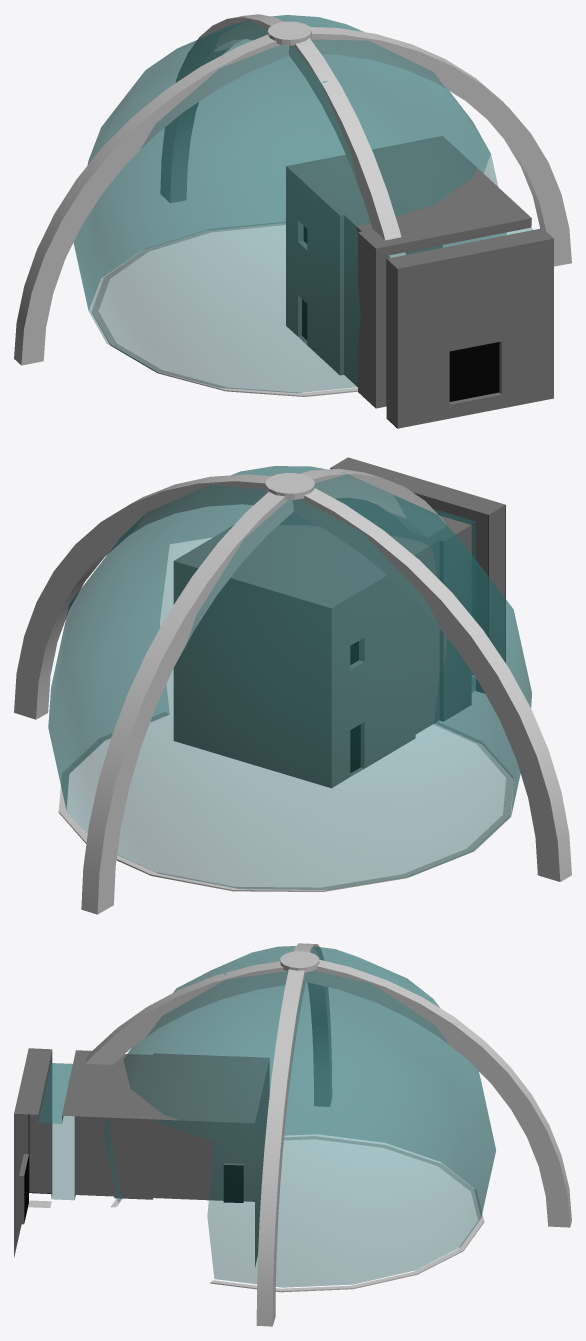
File: BuildingPhase2.obj
3 views of the same model, one above another, from view 1: azimuth 30°, elevation 25°; view 2: azimuth 150°, elevation 25°; view 3: azimuth 270°, elevation 25° (orthographic). The views are drawn at different scales.
Visible parts, largest first — view 1: Sphere001_Mesh.001, Box001_Mesh, Box002_Mesh.004, Box004_Mesh.006, Box005_Mesh.007, Box003_Mesh.005, Cylinder001_Mesh.002, Cylinder002_Mesh.003; view 2: Sphere001_Mesh.001, Box001_Mesh, Box002_Mesh.004, Box003_Mesh.005, Box004_Mesh.006, Cylinder001_Mesh.002, Box005_Mesh.007, Cylinder002_Mesh.003; view 3: Sphere001_Mesh.001, Box001_Mesh, Box003_Mesh.005, Box004_Mesh.006, Box005_Mesh.007, Box002_Mesh.004, Cylinder001_Mesh.002, Cylinder002_Mesh.003.
Boxes of the visible parts, left/top/right/bottom form: Sphere001_Mesh.001: left=73, top=15, right=506, bottom=392; Box001_Mesh: left=286, top=136, right=553, bottom=428; Box002_Mesh.004: left=14, top=34, right=289, bottom=365; Box004_Mesh.006: left=310, top=27, right=571, bottom=266; Box005_Mesh.007: left=288, top=38, right=405, bottom=257; Box003_Mesh.005: left=160, top=14, right=288, bottom=202; Cylinder001_Mesh.002: left=91, top=222, right=357, bottom=396; Cylinder002_Mesh.003: left=267, top=21, right=311, bottom=45; Sphere001_Mesh.001: left=48, top=466, right=531, bottom=889; Box001_Mesh: left=173, top=457, right=505, bottom=788; Box002_Mesh.004: left=292, top=488, right=571, bottom=881; Box003_Mesh.005: left=81, top=492, right=293, bottom=914; Box004_Mesh.006: left=14, top=474, right=271, bottom=719; Cylinder001_Mesh.002: left=58, top=712, right=513, bottom=891; Box005_Mesh.007: left=299, top=468, right=475, bottom=690; Cylinder002_Mesh.003: left=265, top=473, right=314, bottom=499; Sphere001_Mesh.001: left=103, top=946, right=495, bottom=1287; Box001_Mesh: left=14, top=1048, right=269, bottom=1266; Box003_Mesh.005: left=306, top=959, right=571, bottom=1227; Box004_Mesh.006: left=256, top=969, right=305, bottom=1326; Box005_Mesh.007: left=28, top=961, right=287, bottom=1207; Box002_Mesh.004: left=293, top=943, right=331, bottom=1106; Cylinder001_Mesh.002: left=111, top=1136, right=484, bottom=1292; Cylinder002_Mesh.003: left=280, top=951, right=319, bottom=972.
Bounding box in the file's own units: 126 × 65 × 130.
